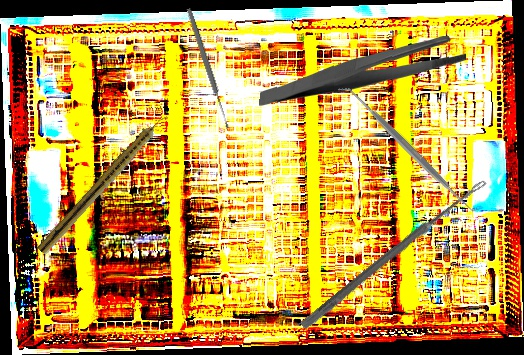Dressing Forceps: (259, 33, 467, 110)
Handpiece: (36, 110, 172, 258)
Spatula Surgical: (336, 76, 482, 222)
Surgical Spoon: (299, 175, 489, 332), (185, 7, 231, 130)
